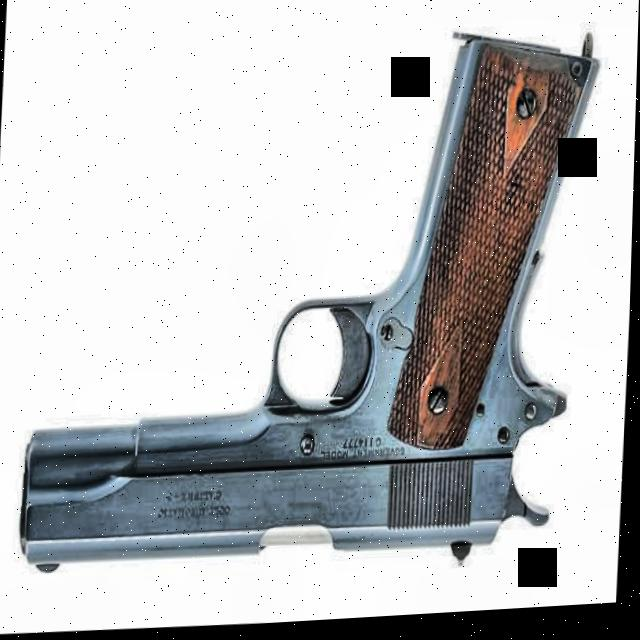Colt m1911: (18, 21, 602, 596)
